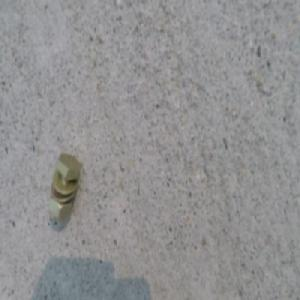BoltNutSet: (47, 150, 80, 222)
